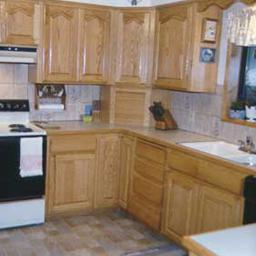Electrodomestico: (1, 100, 46, 229)
Lavaplatos: (175, 129, 255, 171)
